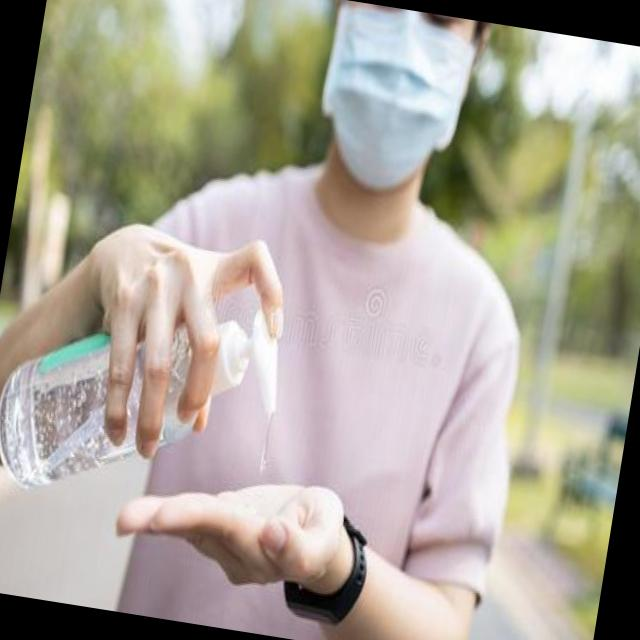sanitizer: (0, 271, 294, 492)
